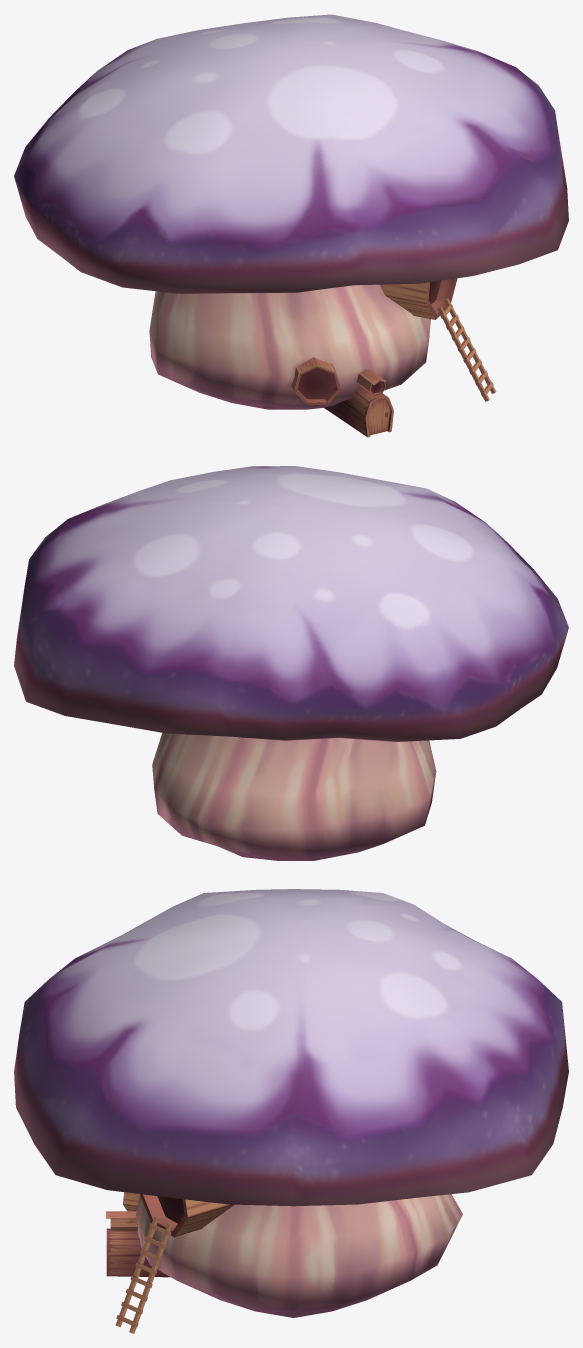
Rendered from mushroom_home_S_02.fbx.
3 renders of one model, top to bottom at view 1: azimuth 30°, elevation 25°; view 2: azimuth 150°, elevation 25°; view 3: azimuth 270°, elevation 25°, orthographic. The views are drawn at different scales.
Visible parts, largest first — view 1: mushroom_home_S2; view 2: mushroom_home_S2; view 3: mushroom_home_S2.
Part boxes in pixels (x1,y1,x2,y2): mushroom_home_S2: (14, 14, 568, 437); mushroom_home_S2: (14, 466, 568, 860); mushroom_home_S2: (14, 889, 568, 1333).
Size of the model in its own units: 1515 by 954 by 1403.
